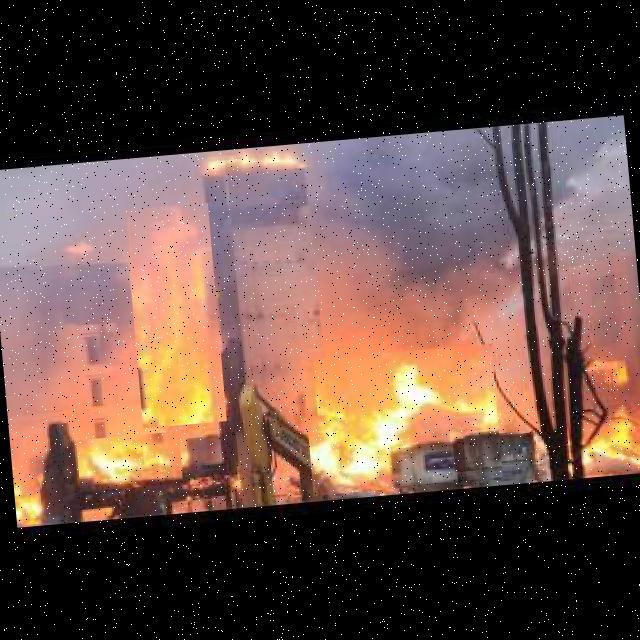fire: (302, 343, 502, 495), (124, 202, 226, 428), (76, 431, 182, 492), (567, 405, 640, 476), (196, 142, 313, 177)
